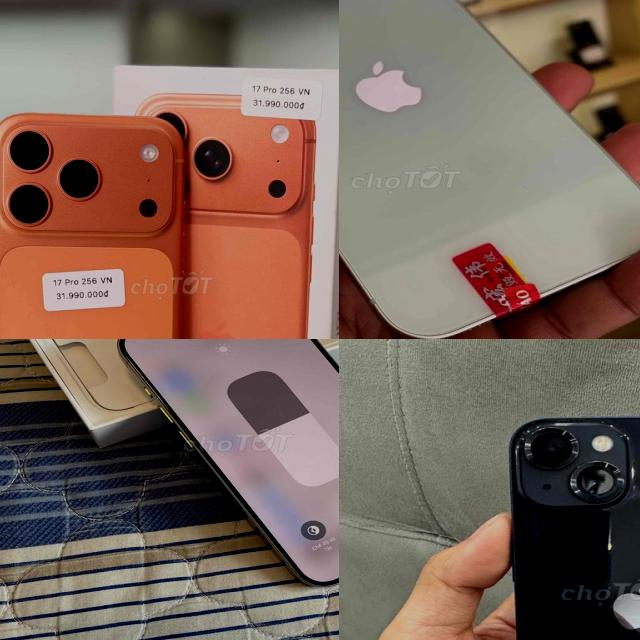gen_12_13: (479, 398, 640, 640)
gen_15: (339, 0, 640, 339), (71, 339, 339, 595)
gen_17: (0, 101, 199, 339)
